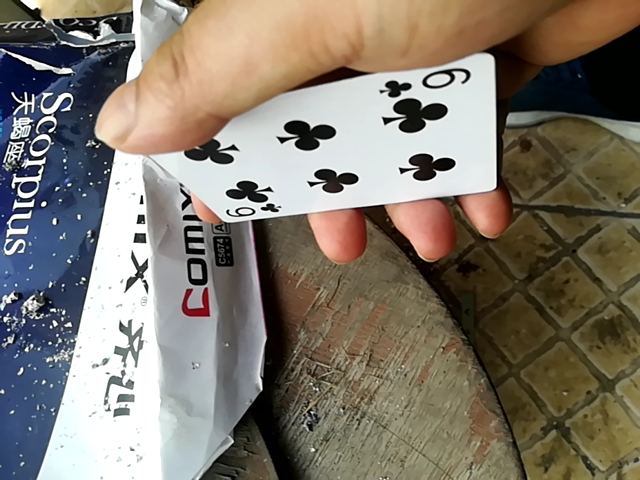mh 6: (152, 59, 506, 218)
